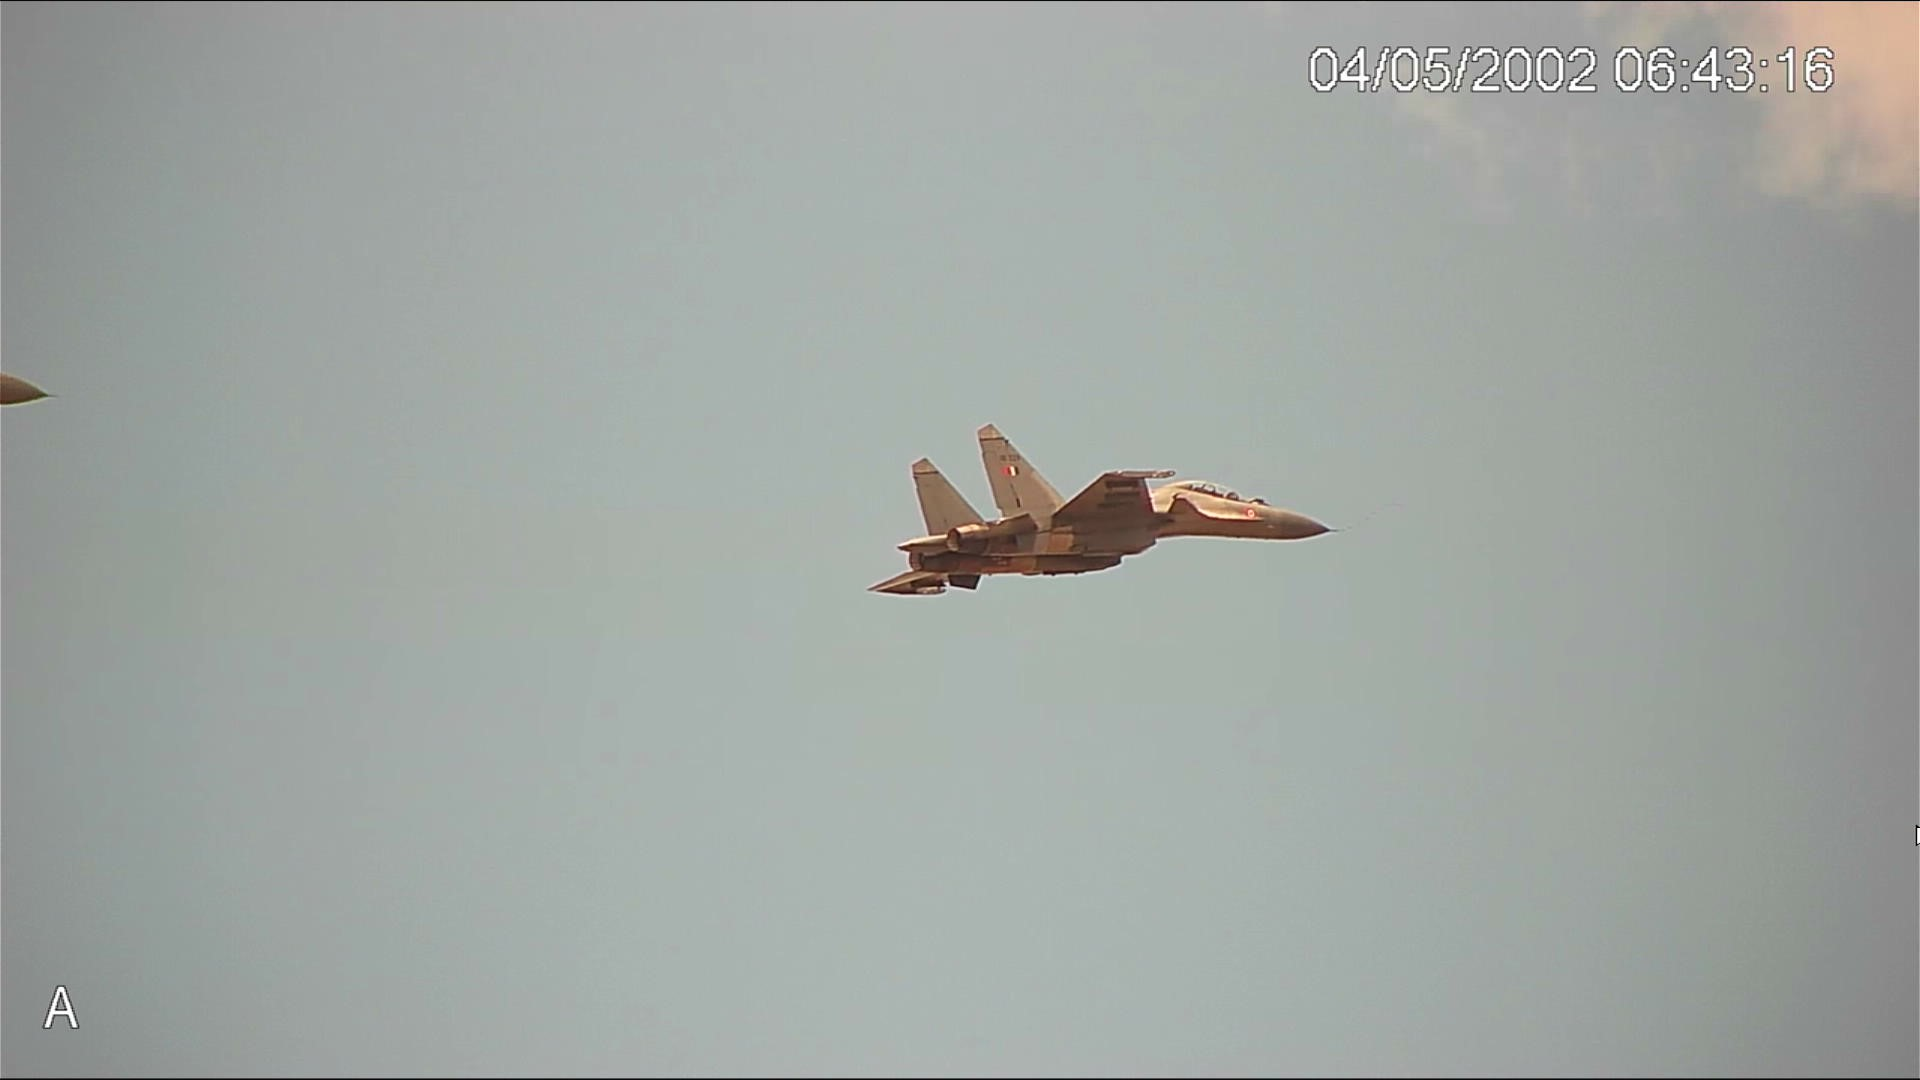SU_30: (864, 415, 1338, 601)
